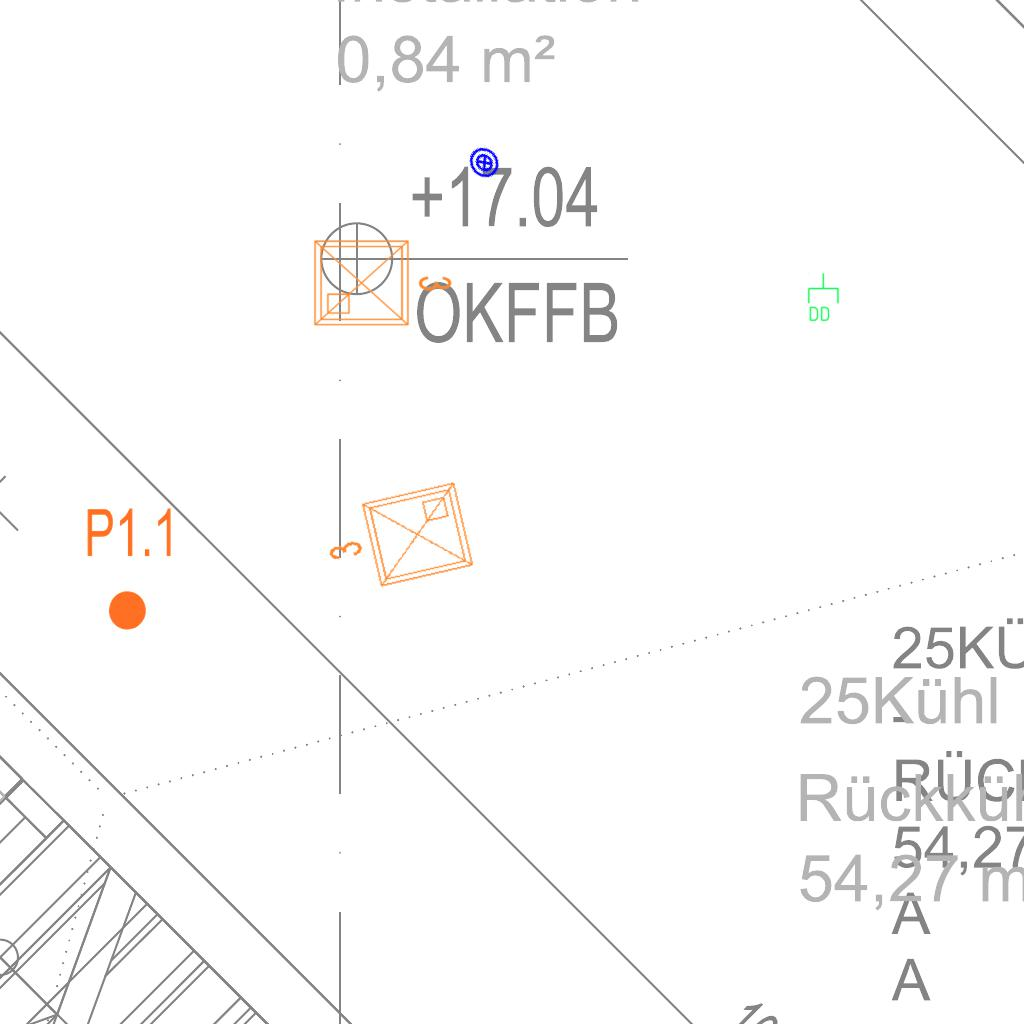Datenanschluss_zweifach: (806, 272, 840, 323)
Downlight_LED_Einbauleuchten_Flur: (84, 505, 177, 633)
Einbaudownlights_LED_Konferenzraeume: (313, 473, 483, 609), (307, 229, 457, 333)
Taster_beleuchtet: (461, 139, 508, 186)
